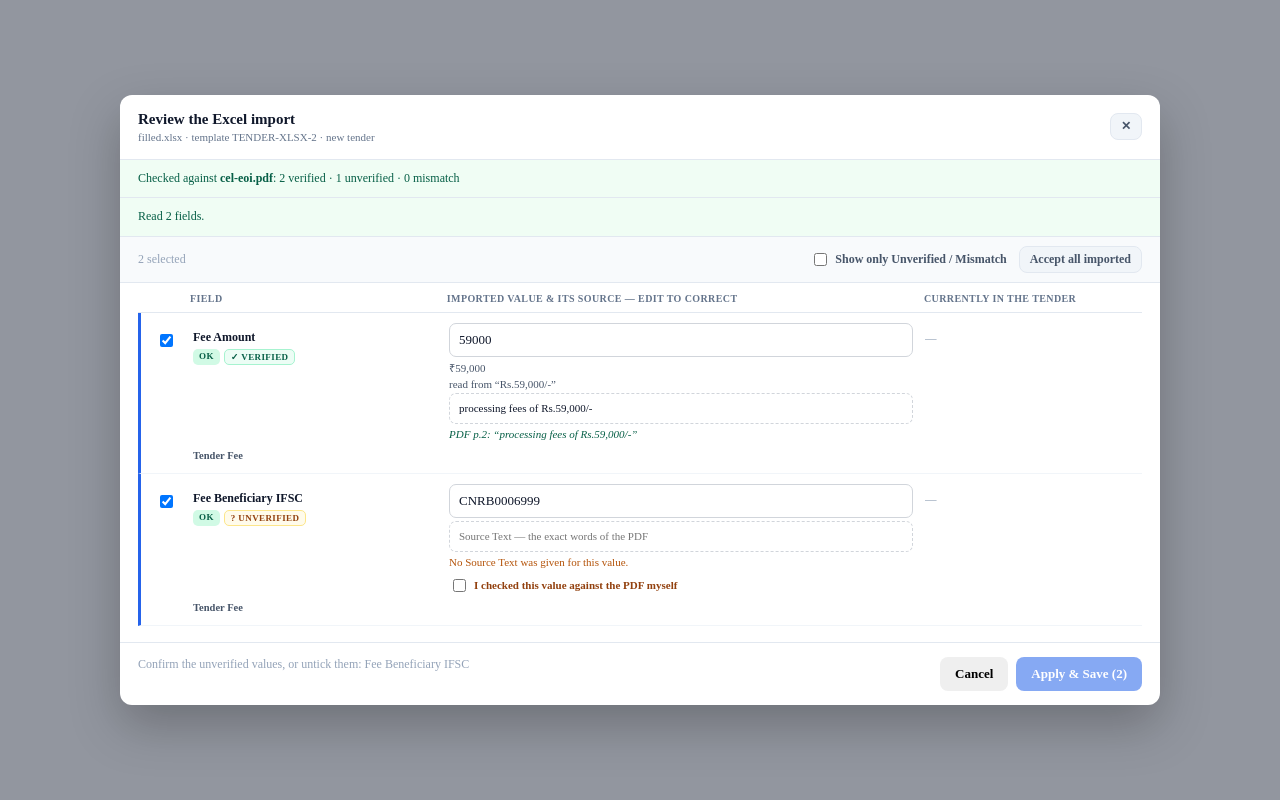
Test: an unverified field needs its own tick before it can be saved
Expected: the button "Apply & Save (2)" is disabled, [1016,657,1142,691]
Click the checkbox labelled "I checked this value against the PDF myself" at (460, 585), box [453,579,466,592]
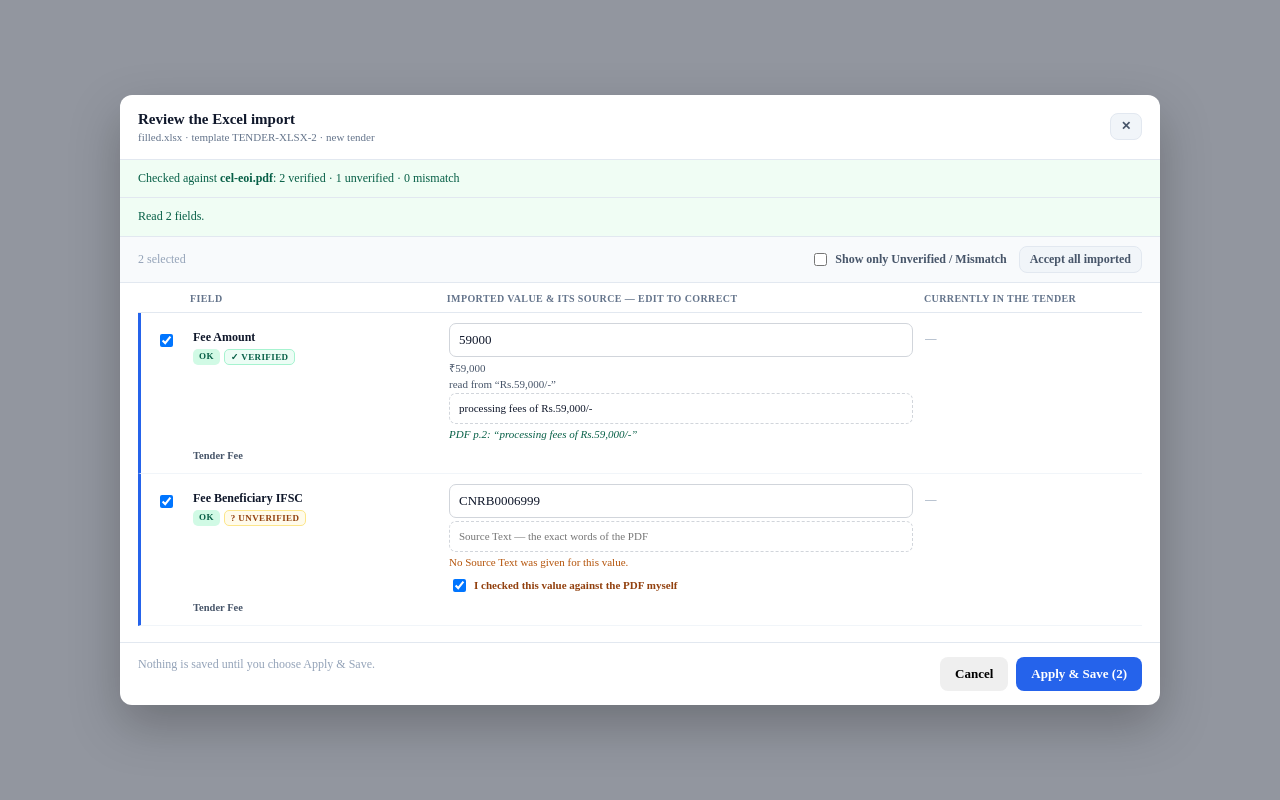
Expected: the button "Apply & Save (2)" is enabled, [1016,657,1142,691]
